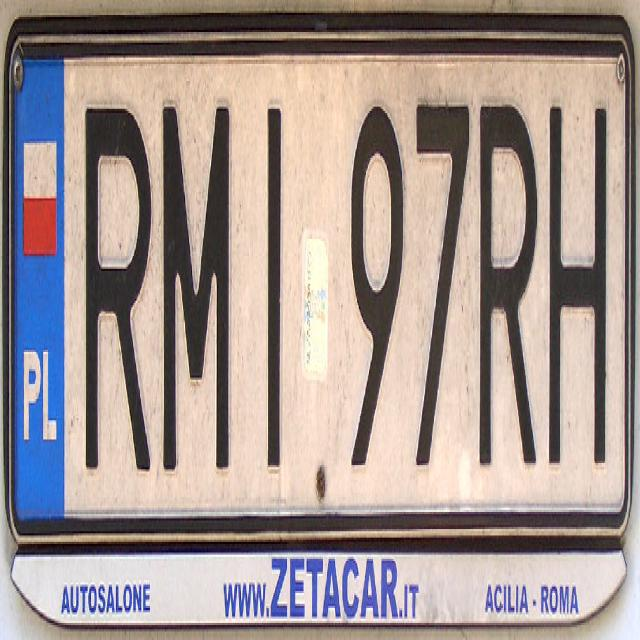pl_license_plate: (9, 32, 630, 523)
